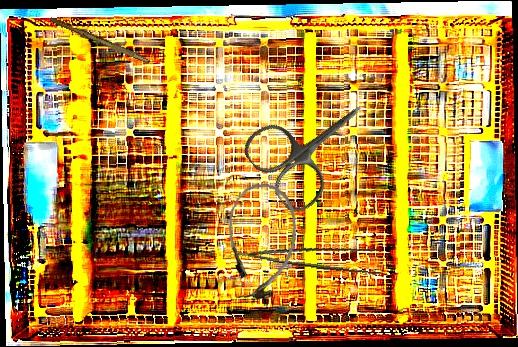Cannula: (221, 179, 301, 305)
Iris Scissors: (237, 71, 390, 219)
Scalpel Handle: (48, 16, 152, 64)
Tissue Forceps: (237, 228, 387, 279)
